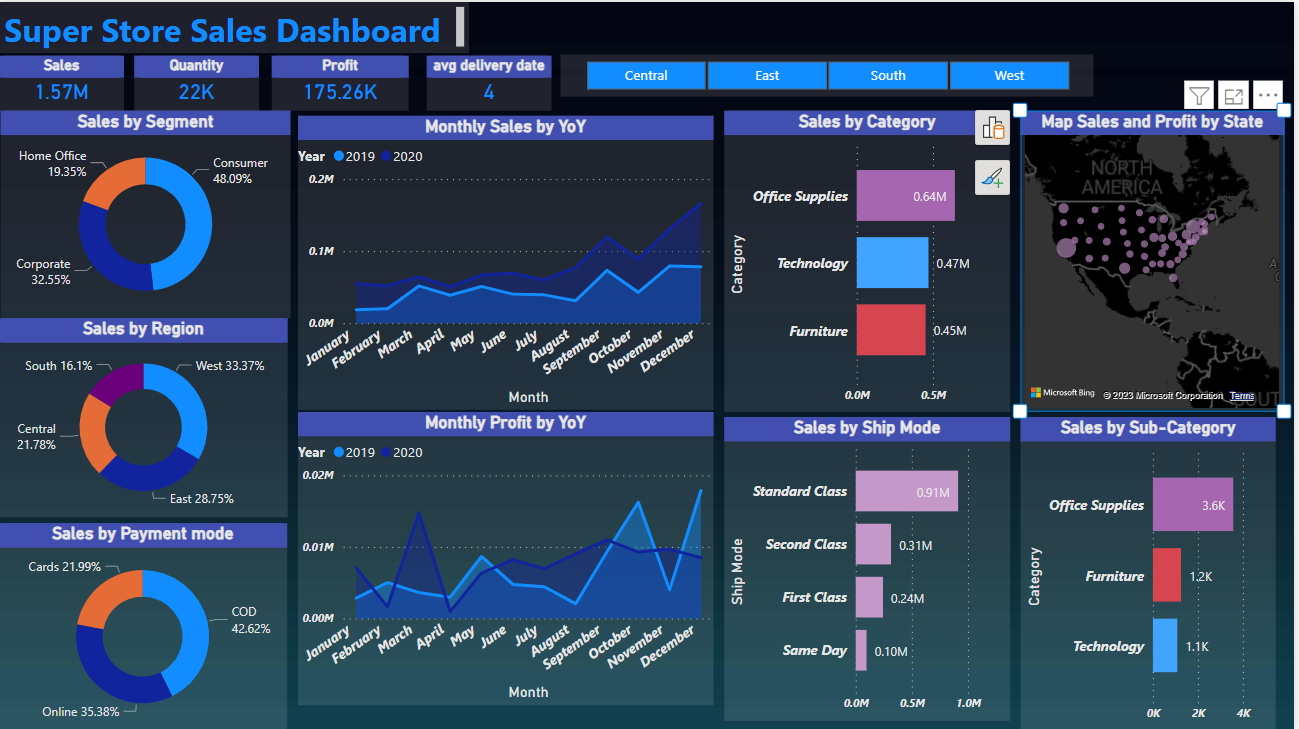

This screenshot's page, from the dashboard's own definition file:
{"tool":"powerbi","page":{"name":"Page 1","canvas":[1280,720],"ordinal":0},"visuals":[{"type":"clusteredBarChart","title":"Sales by Category","fields":{"Category":["SuperStore_Sales_Dataset.Category"],"Y":["Sum(SuperStore_Sales_Dataset.Sales)"]},"box":[717.6,107.3,282.2,297.9],"z":0},{"type":"clusteredBarChart","title":"Sales by Sub-Category","fields":{"Category":["SuperStore_Sales_Dataset.Category"],"Y":["CountNonNull(SuperStore_Sales_Dataset.Sub-Category)"]},"box":[1009.4,410.1,252.1,309.9],"z":1000},{"type":"donutChart","title":"Sales by Segment","fields":{"Y":["Sum(SuperStore_Sales_Dataset.Sales)"],"Category":["SuperStore_Sales_Dataset.Segment"]},"box":[2.5,107.5,286.2,205],"z":2000},{"type":"areaChart","title":"Monthly Sales by YoY","fields":{"Y":["Sum(SuperStore_Sales_Dataset.Sales)"],"Category":["SuperStore_Sales_Dataset.Order Date.Variation.Date Hierarchy.Month","SuperStore_Sales_Dataset.Order Date.Variation.Date Hierarchy.Day"],"Series":["SuperStore_Sales_Dataset.Order Date.Variation.Date Hierarchy.Year"]},"box":[296.7,112.2,410.1,290.7],"z":3000},{"type":"areaChart","title":"Monthly Profit by YoY","fields":{"Category":["SuperStore_Sales_Dataset.Order Date.Variation.Date Hierarchy.Month","SuperStore_Sales_Dataset.Order Date.Variation.Date Hierarchy.Day"],"Series":["SuperStore_Sales_Dataset.Order Date.Variation.Date Hierarchy.Year"],"Y":["Sum(SuperStore_Sales_Dataset.Profit)"]},"box":[296.7,405.2,410.1,289.4],"z":4000},{"type":"clusteredBarChart","title":"Sales by Ship Mode","fields":{"Y":["Sum(SuperStore_Sales_Dataset.Sales)"],"Category":["SuperStore_Sales_Dataset.Ship Mode"]},"box":[717.6,410.1,282.2,300.3],"z":5000},{"type":"map","title":"Map Sales and  Profit by State","fields":{"Category":["SuperStore_Sales_Dataset.State"],"Size":["Sum(SuperStore_Sales_Dataset.Sales)"]},"box":[1009.4,107.3,260.5,297.9],"z":6000},{"type":"donutChart","title":"Sales by Region","fields":{"Y":["Sum(SuperStore_Sales_Dataset.Sales)"],"Category":["SuperStore_Sales_Dataset.Region"]},"box":[1.2,312.4,284.6,196.6],"z":7000},{"type":"donutChart","title":"Sales by Payment mode","fields":{"Y":["Sum(SuperStore_Sales_Dataset.Sales)"],"Category":["SuperStore_Sales_Dataset.Payment Mode"]},"box":[0,515,285.8,205],"z":8000},{"type":"textbox","box":[1.2,0,464.3,50.7],"z":9000},{"type":"card","title":"Sales","fields":{"Values":["Sum(SuperStore_Sales_Dataset.Sales)"]},"box":[1.2,53.1,123,54.3],"z":10000},{"type":"card","title":"Quantity","fields":{"Values":["Sum(SuperStore_Sales_Dataset.Quantity)"]},"box":[135.1,53.1,123,54.3],"z":11000},{"type":"card","title":"Profit","fields":{"Values":["Sum(SuperStore_Sales_Dataset.Profit)"]},"box":[270.2,53.1,135.1,54.3],"z":12000},{"type":"card","title":"avg delivery date","fields":{"Values":["Avg(SuperStore_Sales_Dataset.AvgDelivery)"]},"box":[423.3,53.1,123,54.3],"z":13000},{"type":"slicer","fields":{"Values":["SuperStore_Sales_Dataset.Region"]},"box":[555,51.2,526.2,41.2],"z":14000}]}

Visuals, with their boxes in screenshot pixels (x1, y1, x2, y2), scaled from the page's 1280x720 canvas onto the 1299x729 screenshot:
"Sales by Category" clusteredBarChart: (x1=728, y1=109, x2=1015, y2=410)
"Sales by Sub-Category" clusteredBarChart: (x1=1024, y1=415, x2=1280, y2=728)
"Sales by Segment" donutChart: (x1=3, y1=109, x2=293, y2=316)
"Monthly Sales by YoY" areaChart: (x1=301, y1=114, x2=717, y2=408)
"Monthly Profit by YoY" areaChart: (x1=301, y1=410, x2=717, y2=703)
"Sales by Ship Mode" clusteredBarChart: (x1=728, y1=415, x2=1015, y2=719)
"Map Sales and  Profit by State" map: (x1=1024, y1=109, x2=1289, y2=410)
"Sales by Region" donutChart: (x1=1, y1=316, x2=290, y2=515)
"Sales by Payment mode" donutChart: (x1=0, y1=521, x2=290, y2=728)
textbox: (x1=1, y1=0, x2=472, y2=51)
"Sales" card: (x1=1, y1=54, x2=126, y2=109)
"Quantity" card: (x1=137, y1=54, x2=262, y2=109)
"Profit" card: (x1=274, y1=54, x2=411, y2=109)
"avg delivery date" card: (x1=430, y1=54, x2=554, y2=109)
slicer - SuperStore_Sales_Dataset.Region: (x1=563, y1=52, x2=1097, y2=94)
